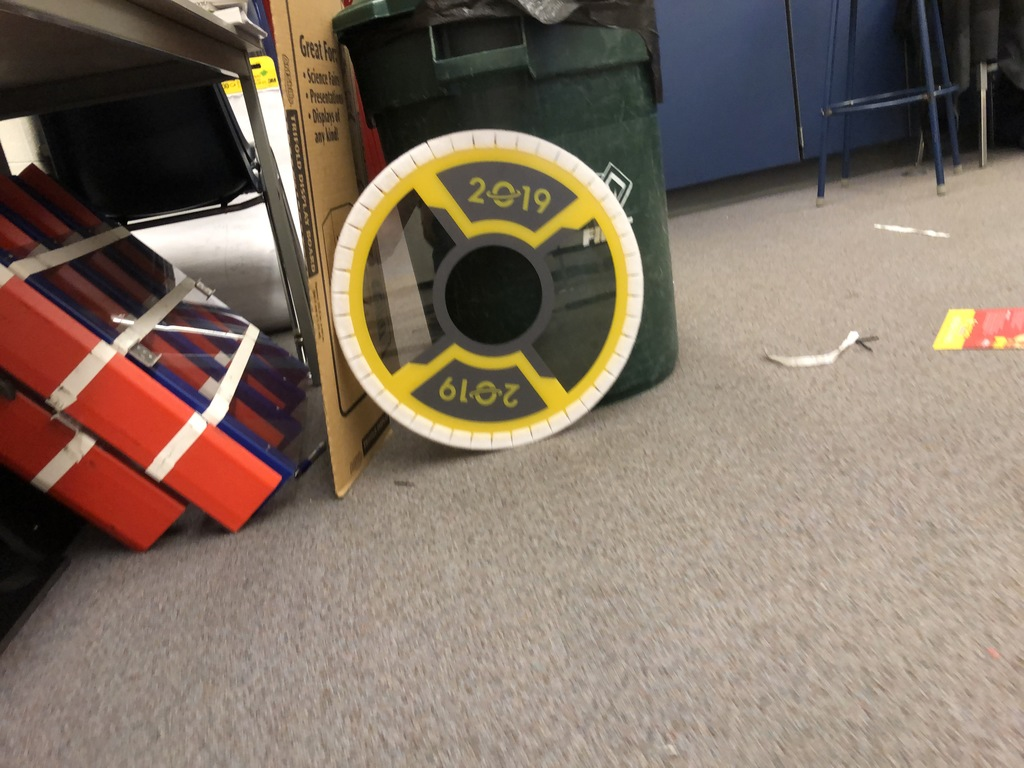hatch_panel: (316, 126, 669, 473)
